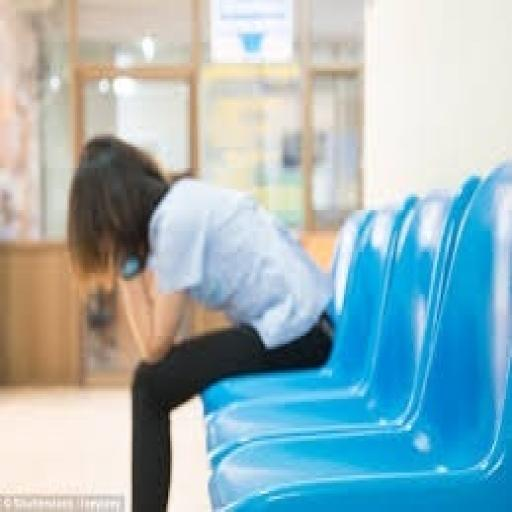sitting: (63, 129, 338, 509)
